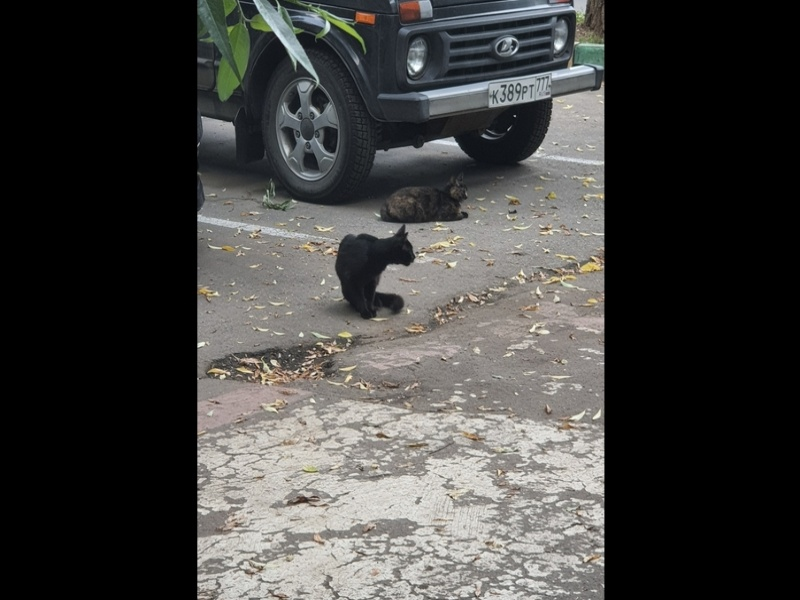cat: (332, 226, 414, 319), (381, 176, 474, 224)
